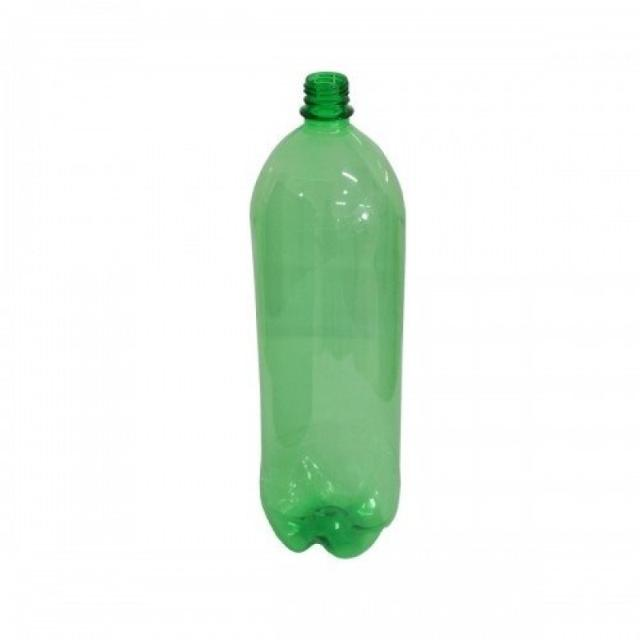bottle: (251, 72, 405, 558)
